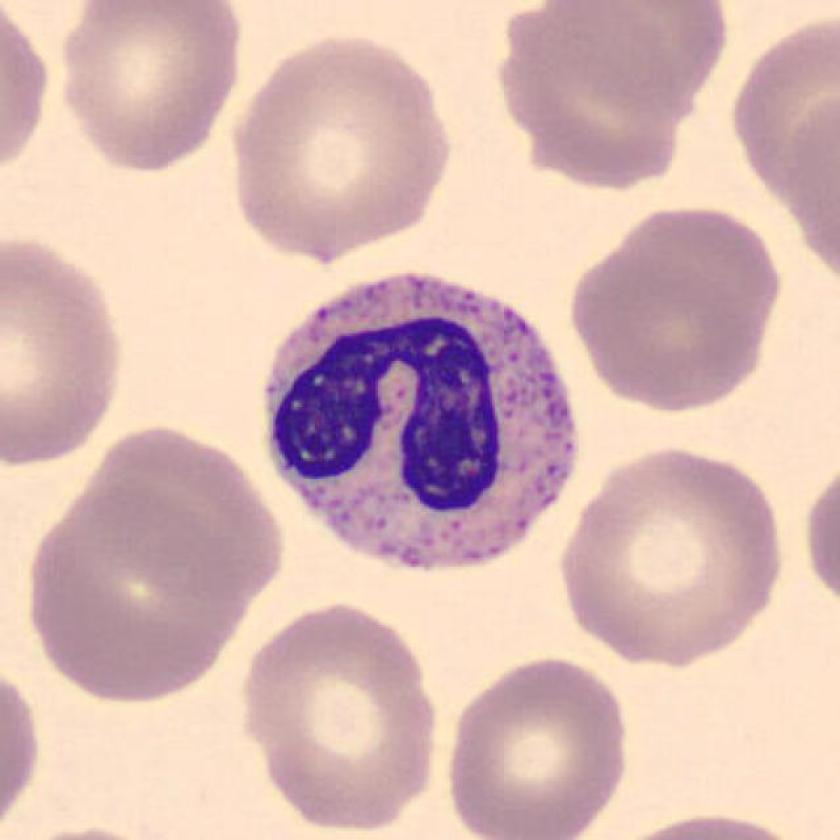neutrophil: (269, 277, 580, 568)
